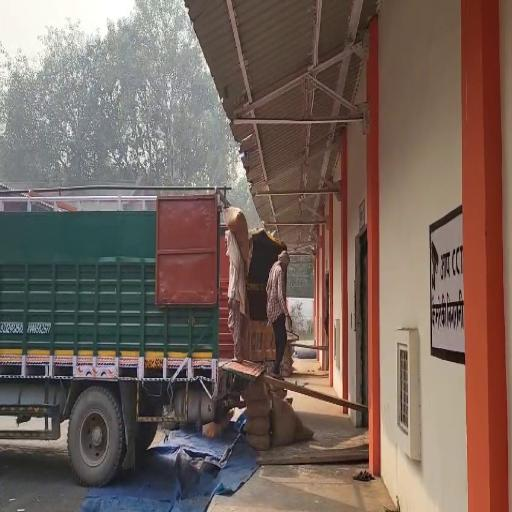bag: (222, 202, 254, 268)
